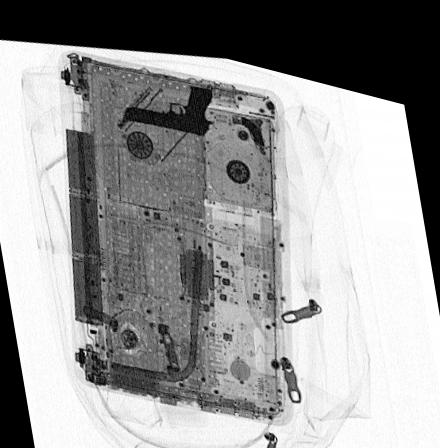Gun: (121, 75, 215, 126)
